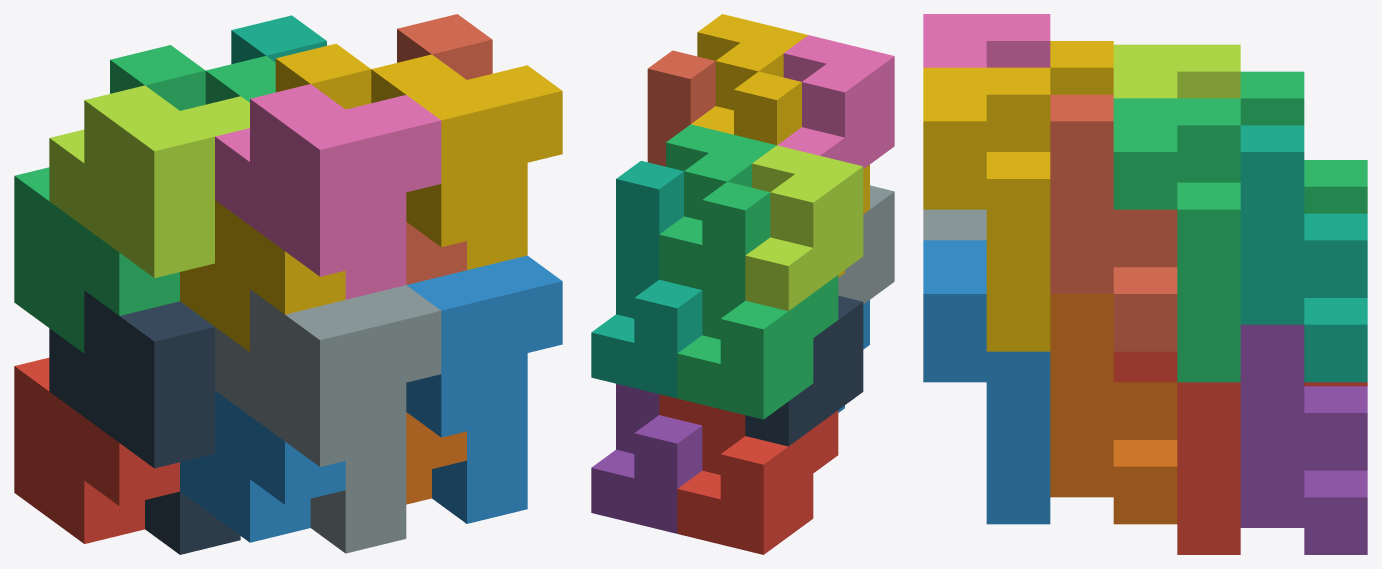
The model's file is tiling.obj.
3 renders of one model, left to right at view 1: azimuth 30°, elevation 25°; view 2: azimuth 150°, elevation 25°; view 3: azimuth 270°, elevation 25°, orthographic. The views are drawn at different scales.
Visible parts, largest first — view 1: copy_2_domain_2, copy_2_domain_4, copy_2_domain_6, copy_2_domain_3, copy_2_domain_1, copy_2_domain_8, copy_1_domain_3, copy_1_domain_1, copy_1_domain_4, copy_1_domain_2, copy_1_domain_8, copy_1_domain_6 (+2 smaller); view 2: copy_1_domain_3, copy_1_domain_7, copy_1_domain_1, copy_2_domain_3, copy_2_domain_4, copy_1_domain_5, copy_2_domain_7, copy_2_domain_1, copy_2_domain_8, copy_1_domain_8, copy_1_domain_4, copy_2_domain_2 (+1 smaller); view 3: copy_2_domain_8, copy_2_domain_7, copy_1_domain_5, copy_1_domain_7, copy_1_domain_6, copy_1_domain_8, copy_2_domain_6, copy_2_domain_5, copy_2_domain_3, copy_1_domain_3, copy_2_domain_4, copy_1_domain_4 (+1 smaller).
Boxes of the visible parts, x1=… form: copy_2_domain_2: x1=215, y1=285, x2=441, y2=553; copy_2_domain_4: x1=215, y1=84, x2=441, y2=299; copy_2_domain_6: x1=406, y1=255, x2=562, y2=523; copy_2_domain_3: x1=49, y1=85, x2=249, y2=277; copy_2_domain_1: x1=49, y1=290, x2=240, y2=554; copy_2_domain_8: x1=371, y1=54, x2=562, y2=270; copy_1_domain_3: x1=14, y1=45, x2=205, y2=353; copy_1_domain_1: x1=14, y1=357, x2=179, y2=543; copy_1_domain_4: x1=180, y1=43, x2=371, y2=351; copy_1_domain_2: x1=180, y1=390, x2=345, y2=542; copy_1_domain_8: x1=397, y1=14, x2=492, y2=284; copy_1_domain_6: x1=406, y1=412, x2=466, y2=504; copy_1_domain_3: x1=677, y1=181, x2=838, y2=419; copy_1_domain_7: x1=591, y1=161, x2=702, y2=398; copy_1_domain_1: x1=677, y1=404, x2=838, y2=554; copy_2_domain_3: x1=745, y1=145, x2=863, y2=310; copy_2_domain_4: x1=777, y1=35, x2=894, y2=168; copy_1_domain_5: x1=591, y1=383, x2=702, y2=533; copy_2_domain_7: x1=659, y1=124, x2=776, y2=289; copy_2_domain_1: x1=745, y1=295, x2=863, y2=446; copy_2_domain_8: x1=691, y1=14, x2=807, y2=134; copy_1_domain_8: x1=647, y1=50, x2=715, y2=166; copy_1_domain_4: x1=734, y1=71, x2=869, y2=277; copy_2_domain_2: x1=838, y1=185, x2=894, y2=304; copy_2_domain_8: x1=923, y1=67, x2=1050, y2=351; copy_2_domain_7: x1=1113, y1=98, x2=1240, y2=382; copy_1_domain_5: x1=1240, y1=324, x2=1367, y2=554; copy_1_domain_7: x1=1240, y1=125, x2=1367, y2=382; copy_1_domain_6: x1=1050, y1=294, x2=1177, y2=524; copy_1_domain_8: x1=1050, y1=94, x2=1177, y2=351; copy_2_domain_6: x1=923, y1=240, x2=1050, y2=524; copy_2_domain_5: x1=1113, y1=351, x2=1240, y2=554; copy_2_domain_3: x1=1113, y1=44, x2=1240, y2=98; copy_1_domain_3: x1=1240, y1=71, x2=1367, y2=213; copy_2_domain_4: x1=923, y1=14, x2=1050, y2=67; copy_1_domain_4: x1=1050, y1=41, x2=1113, y2=94.
Bounding box in the file's own units: 5 × 8 × 7.
